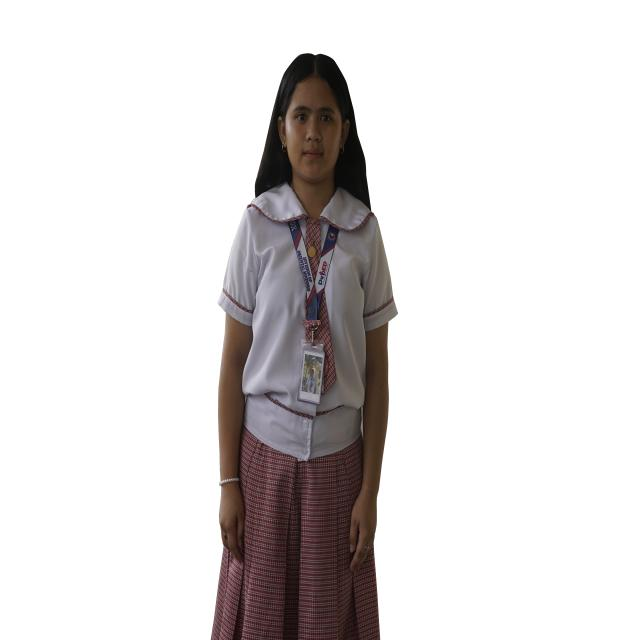id lace: (288, 219, 339, 322)
